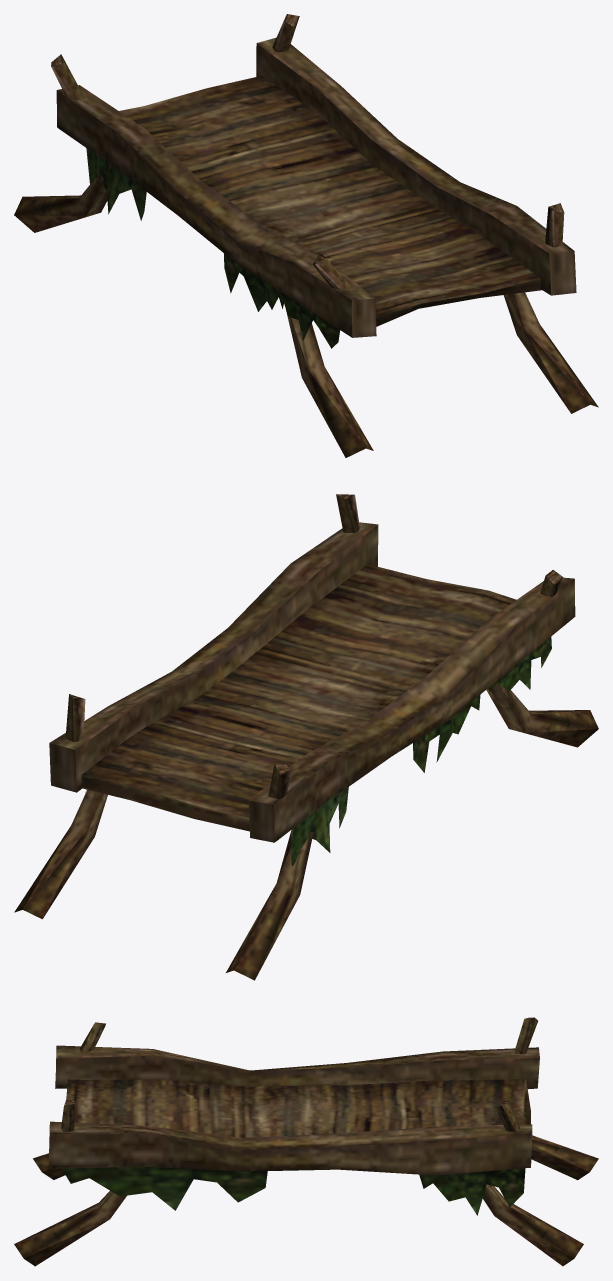
File: general_obj_bridge.glb
The picture shows the model from 3 angles, top to bottom: view 1: azimuth 30°, elevation 25°; view 2: azimuth 150°, elevation 25°; view 3: azimuth 270°, elevation 25°; orthographic projection. The views are drawn at different scales.
Visible parts, largest first — view 1: Object09; view 2: Object09; view 3: Object09.
Boxes of the visible parts, x1,y1,x2,y2 form: Object09: [14, 14, 598, 457]; Object09: [14, 494, 598, 980]; Object09: [14, 1017, 598, 1266].
Size of the model in its own units: 2.59 by 2.04 by 6.58.
1 material, 1 textured.
